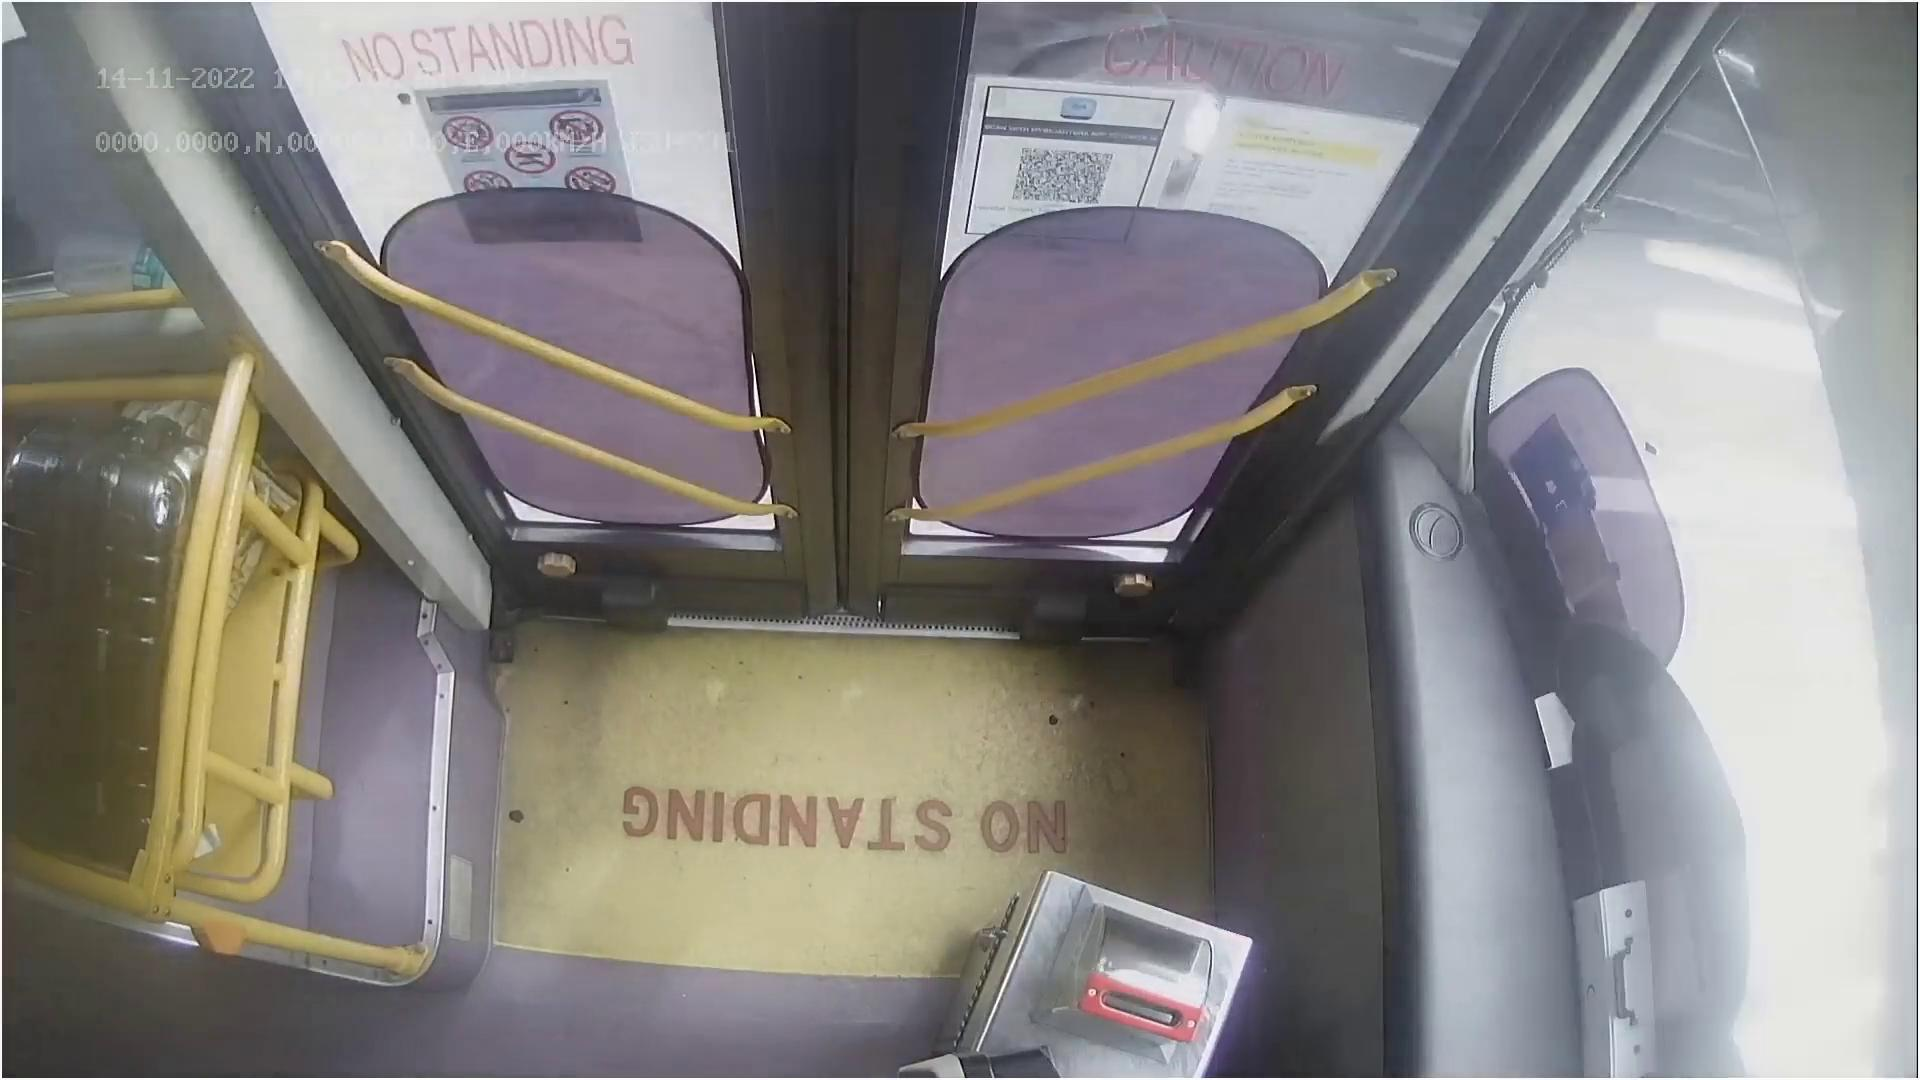close: (282, 0, 1439, 160)
